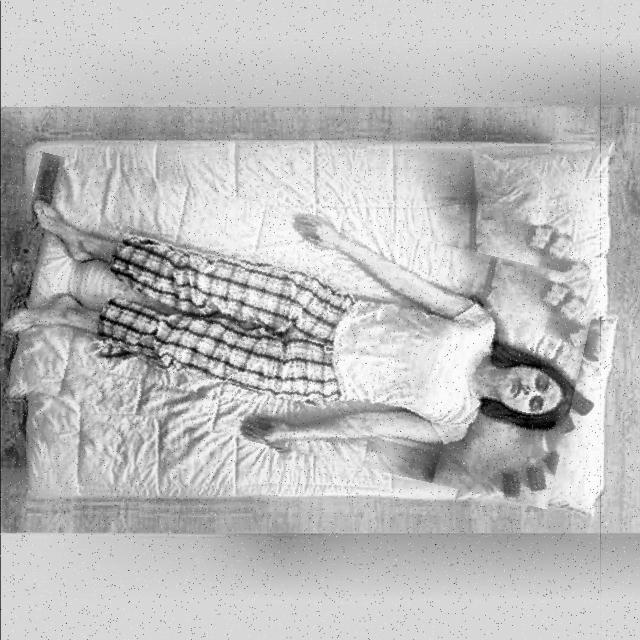Supine: (2, 203, 575, 444)
